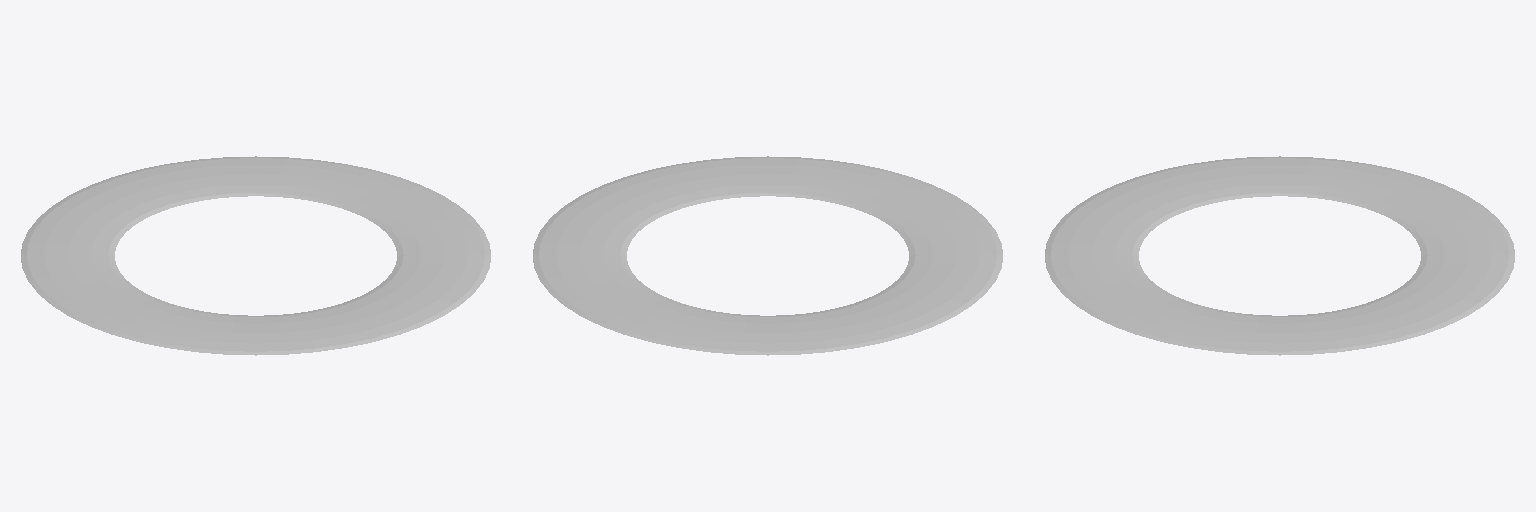
Rendered from ring.obj.
3 views of the same model, side by side, from view 1: azimuth 30°, elevation 25°; view 2: azimuth 150°, elevation 25°; view 3: azimuth 270°, elevation 25° (orthographic).
Visible parts, largest first — view 1: Torus.001; view 2: Torus.001; view 3: Torus.001.
Boxes of the visible parts, box(x1,y1,x2,y2) form: Torus.001: box(21, 156, 490, 355); Torus.001: box(533, 156, 1002, 355); Torus.001: box(1045, 156, 1514, 355).
Size of the model in its own units: 2.5 by 0.025 by 2.5.